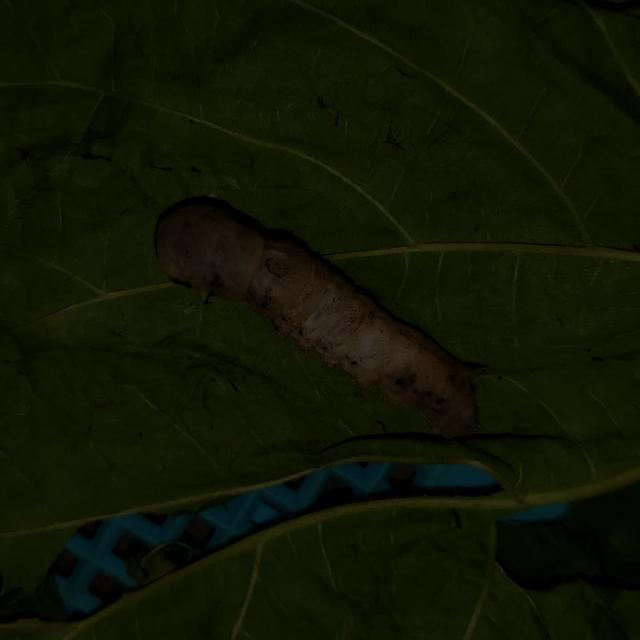Grasserie: (140, 165, 521, 462)
